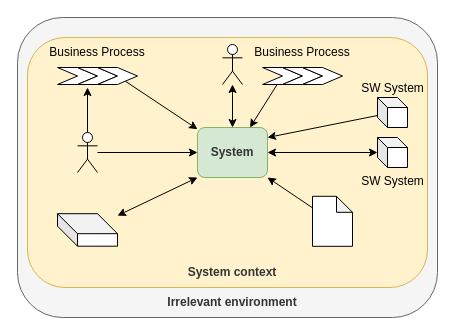
This 455x335 diagram has some shape labels left out. The centre of each missing label's shape, as x and y in pixels:
"Document (e.g., law directive)" belongs at pixel 332 220.
"HW System" belongs at pixel 87 229.
